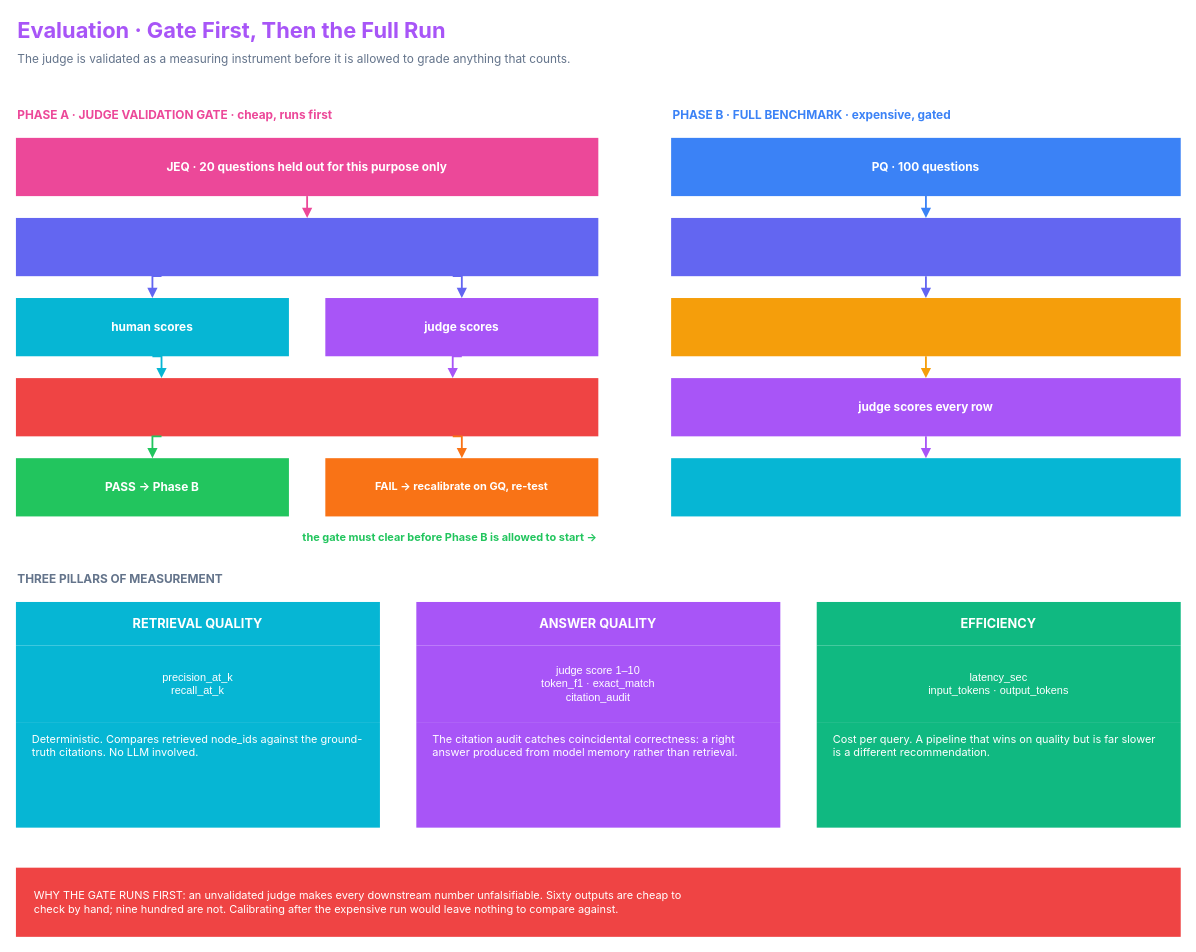
The diagram is 1196 pixels wide and 952 high, and some of its shapes have lost their labels. The centre of each missing label's shape, as x and y in pixels:
"900 result rows, written resumably" goes at point 925,327.
"agreement > 80 % ?" goes at point 306,407.
"per-quadrant comparison" goes at point 925,487.
"run through all three pipelines → 60 outputs" goes at point 306,246.
"× 3 pipelines × K = 2, 3, 5" goes at point 925,246.
